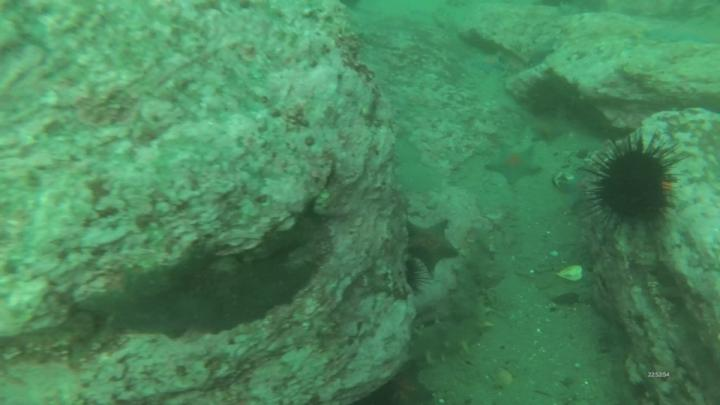echinus: (600, 142, 673, 224)
holothurian: (411, 317, 489, 363)
scallop: (561, 263, 584, 284)
starfish: (409, 221, 460, 270), (492, 142, 542, 185), (570, 175, 592, 209)
